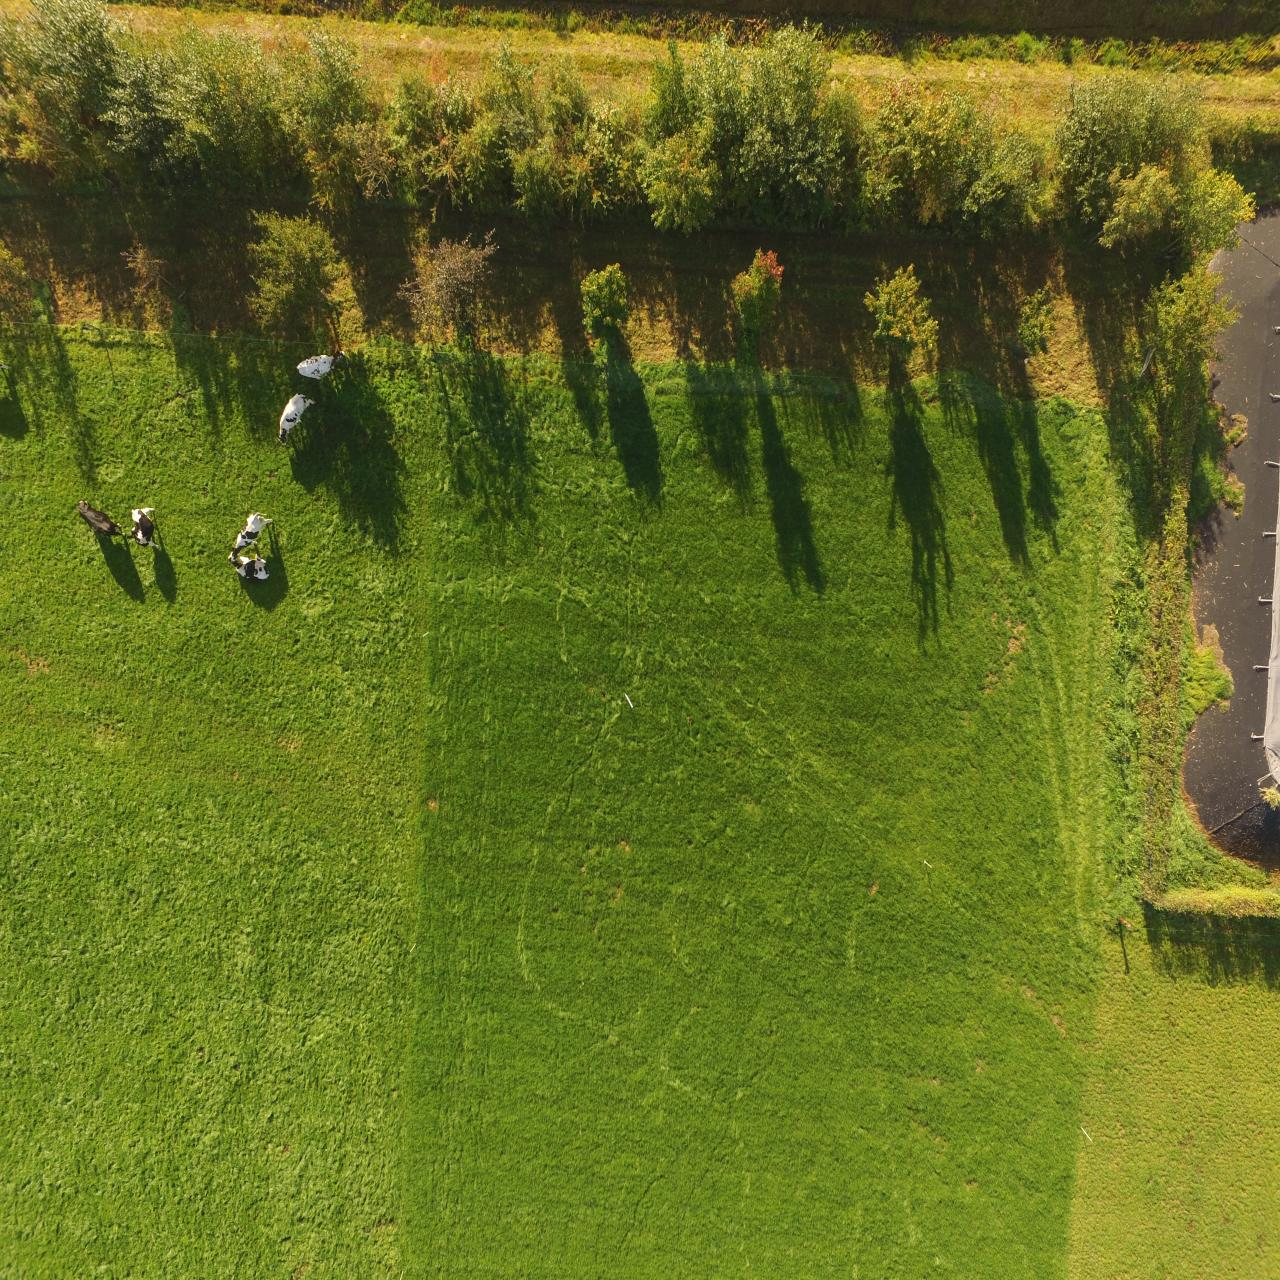cow: (74, 496, 130, 550), (274, 390, 312, 438), (227, 509, 272, 547), (132, 505, 171, 550), (226, 554, 274, 586), (301, 355, 347, 377)
